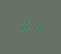four: (30, 20, 40, 34)
nine: (19, 19, 29, 33)
